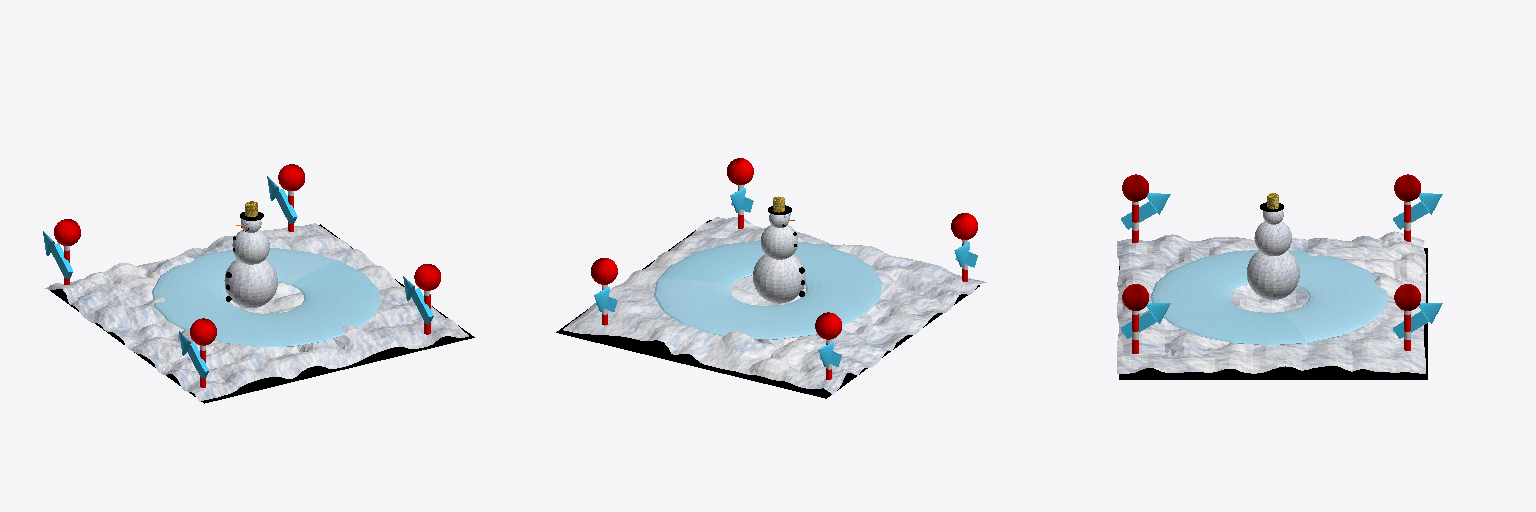
3 views of the same model, side by side, from view 1: azimuth 30°, elevation 25°; view 2: azimuth 150°, elevation 25°; view 3: azimuth 270°, elevation 25° (orthographic).
Size of the model in its own units: 24.7 by 9.61 by 25.18.
Materials: 19 (7 with a texture image).